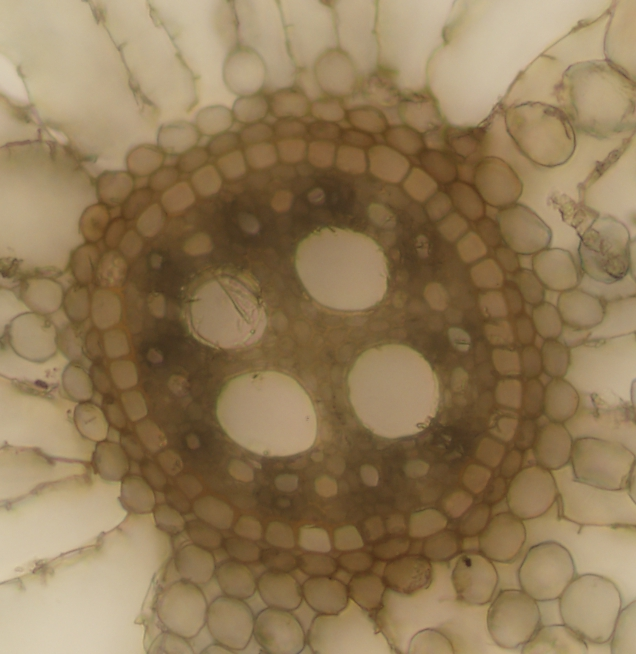lm: (213, 369, 317, 457), (346, 342, 440, 436), (293, 224, 389, 308), (181, 267, 269, 349)
